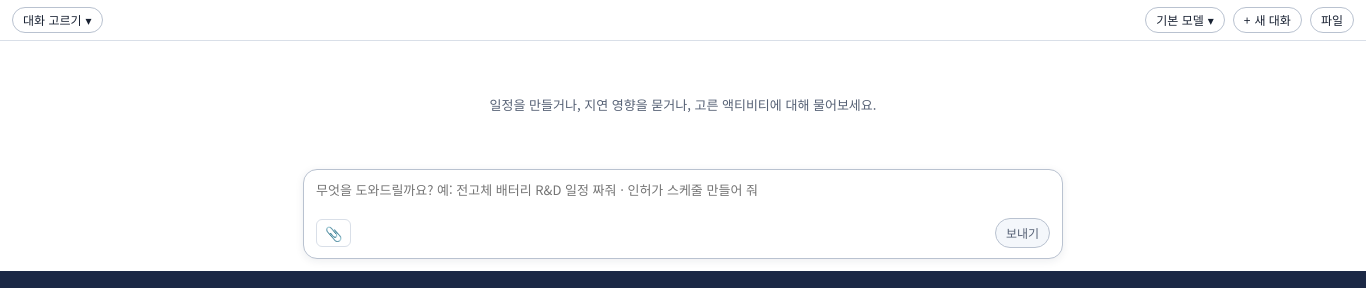
Test: R6 · stop and busy › a turn that is already running shows the server message inline and keeps the text
Type "하나 더" into the text box named "에이전트에게 요청" at coordinates (683, 199), box [316,180,1050,218]
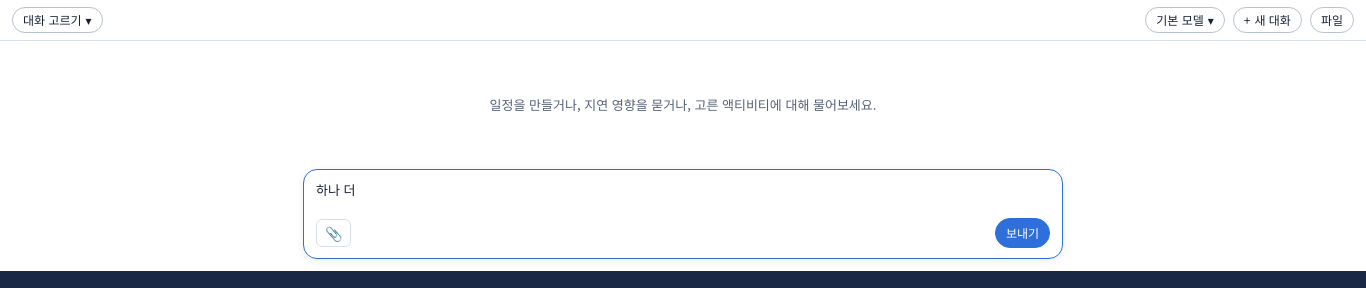
Click the button "보내기" at coordinates (1022, 233), box [995,218,1050,248]
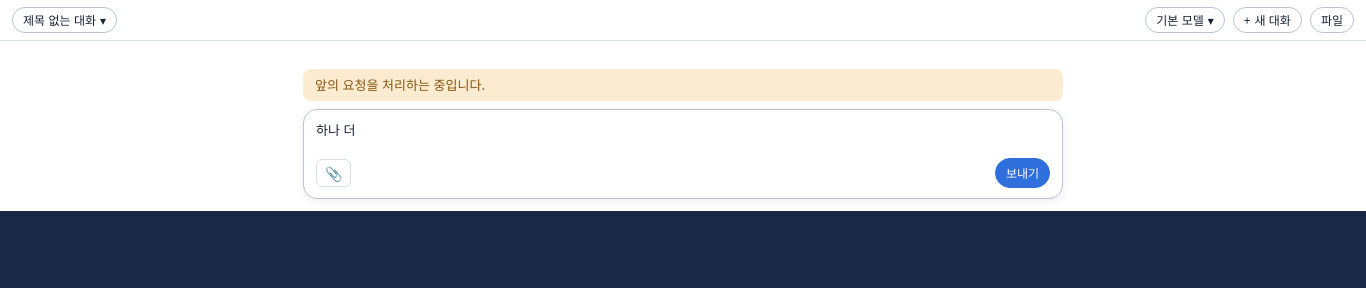
Check: the text "앞의 요청을 처리하는 중입니다." is shown, box [315,75,485,94]
